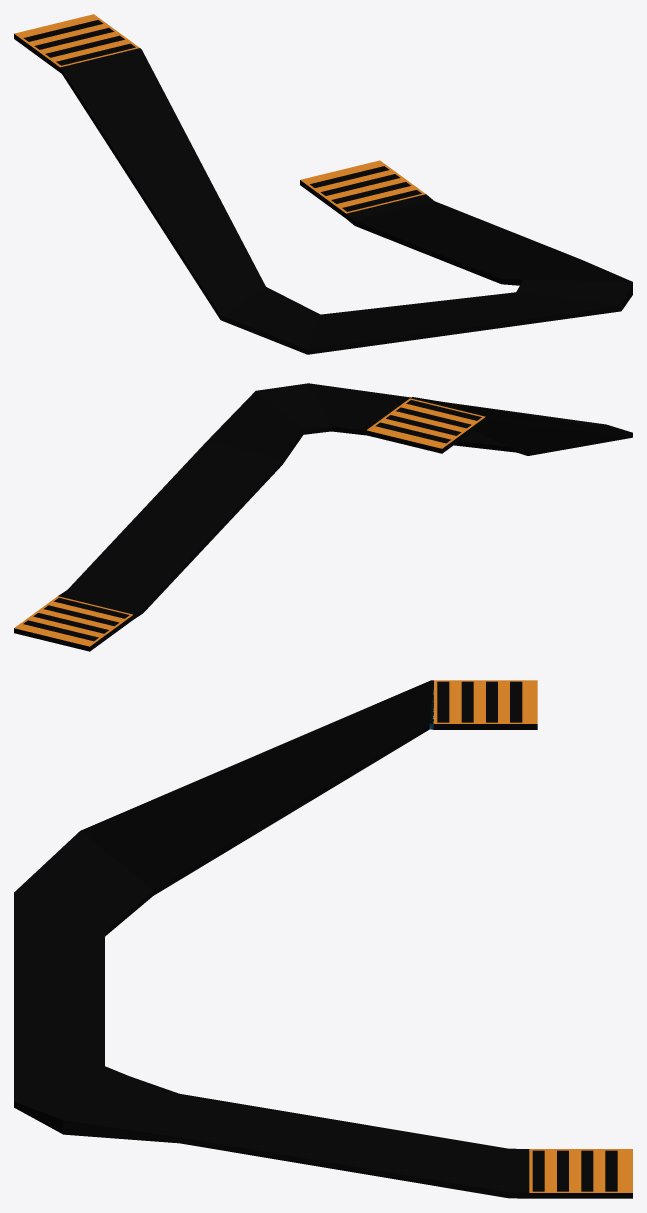
The model's file is Track04.fbx.
3 views of the same model, one above another, from view 1: azimuth 30°, elevation 25°; view 2: azimuth 150°, elevation 25°; view 3: azimuth 270°, elevation 25° (orthographic). The views are drawn at different scales.
Visible parts, largest first — view 1: Track_004; view 2: Track_004; view 3: Track_004.
Boxes of the visible parts, x1=… form: Track_004: x1=14, y1=14, x2=632, y2=354; Track_004: x1=14, y1=383, x2=632, y2=651; Track_004: x1=14, y1=680, x2=632, y2=1198.
Size of the model in its own units: 40.88 by 25.12 by 47.8.
